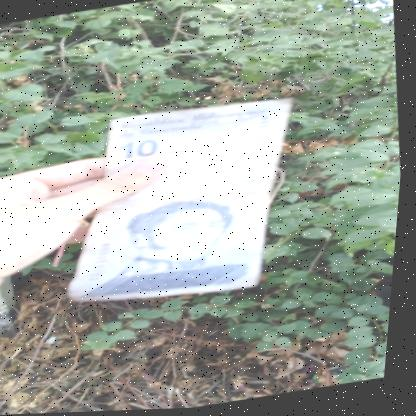ten-front-vef: (50, 93, 318, 319)
